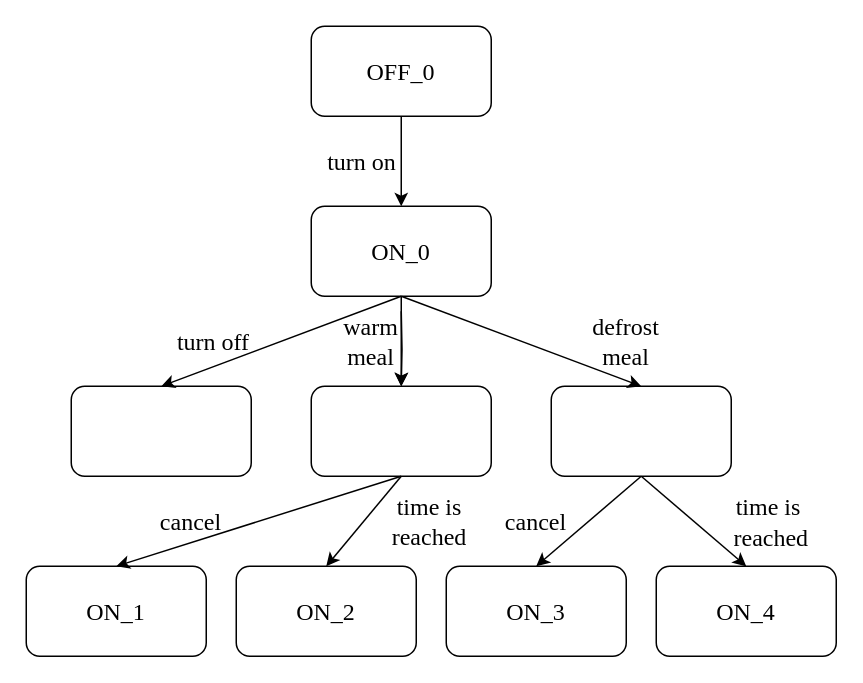
Some shapes in this 863 by 683 pixel diagram are drawn without their labels. The shapes that lost their labels are listed below. From the top down, each one's centre as x and y in pixels, then its label:
At point (160, 430): "OFF_1".
At point (400, 430): "WARMING_0".
At point (640, 430): "DEFROSTING_0".
